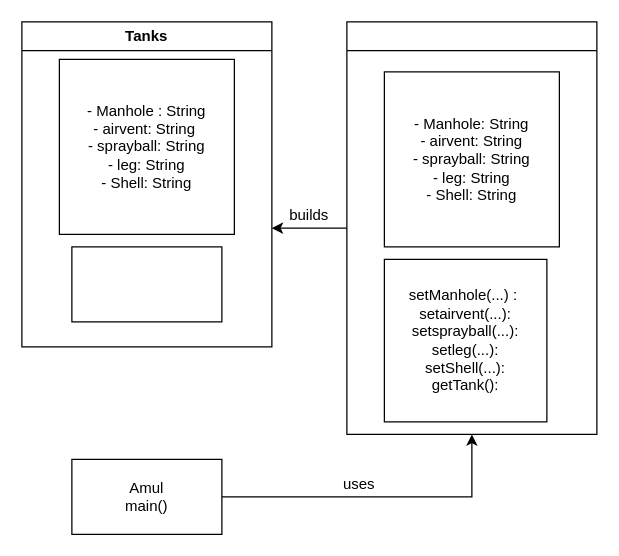
Some shapes in this 619 by 556 pixel diagram are drawn without their labels. The shapes that lost their labels are listed below. From the top down, each one's box as (x1, y1, x2, y2) in pixels, then its label:
(346, 21, 597, 434): Tank Builder
(71, 246, 222, 322): Tanks(...) showinfo(): void
